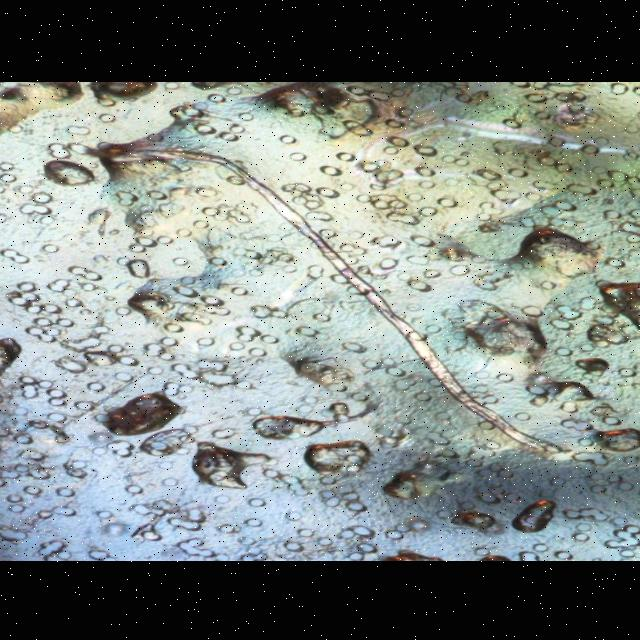Fibre: (90, 136, 592, 468)
